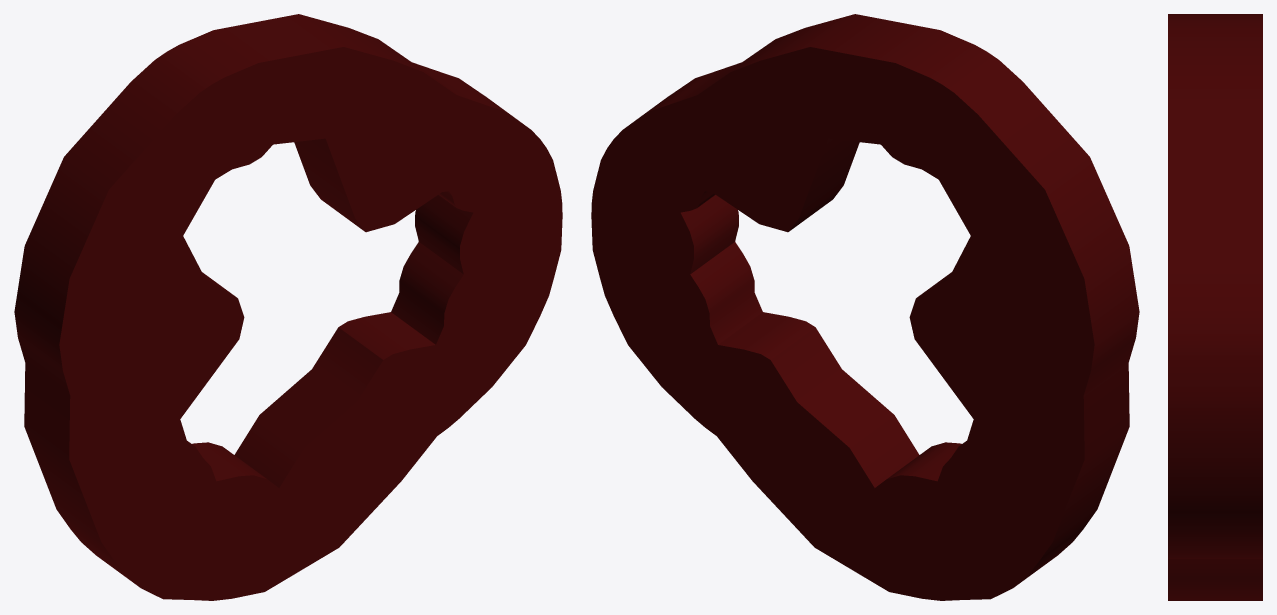
Rendered from Kevin_Naupari_Bell_Pepper_Slices03.fbx.
3 renders of one model, left to right at view 1: azimuth 30°, elevation 25°; view 2: azimuth 150°, elevation 25°; view 3: azimuth 270°, elevation 25°, orthographic. The views are drawn at different scales.
Parts seen in each view (by area): view 1: Pepper_Ring_3; view 2: Pepper_Ring_3; view 3: Pepper_Ring_3.
Boxes of the visible parts, x1,y1,x2,y2 form: Pepper_Ring_3: (14, 14, 562, 600); Pepper_Ring_3: (591, 14, 1139, 600); Pepper_Ring_3: (1168, 14, 1262, 600).
Size of the model in its own units: 1.63 by 1.65 by 0.2528.
